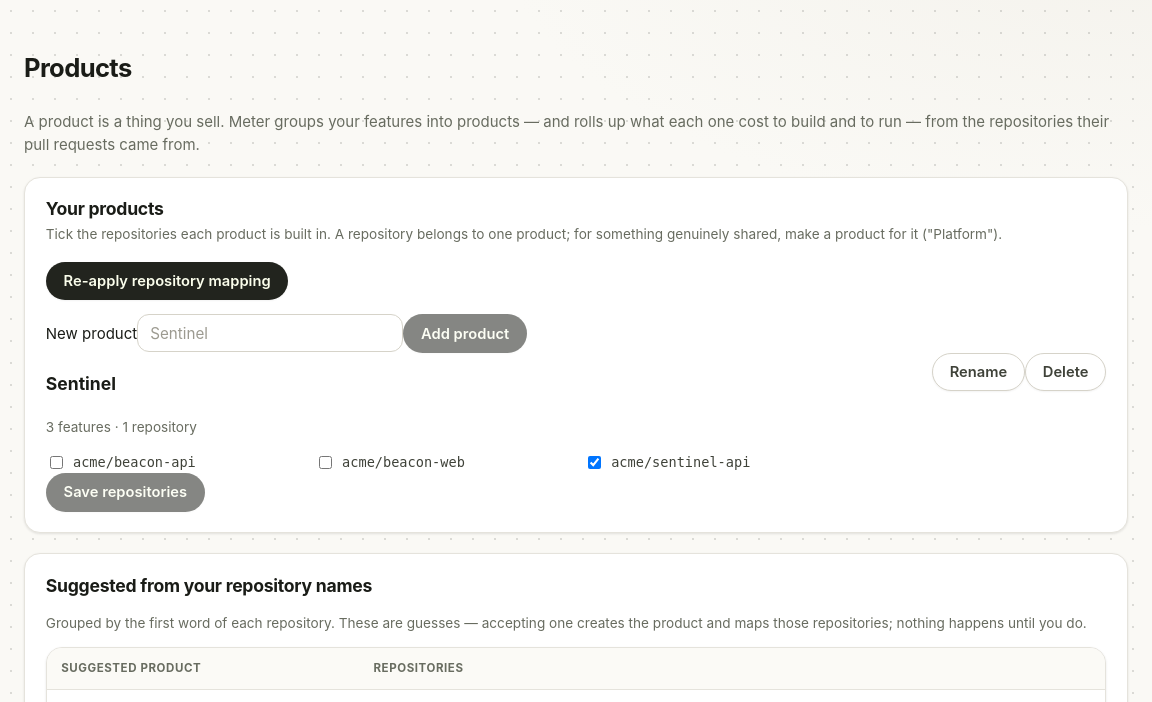
Test case: Products › will not save a rename that changes nothing
This screenshot has width=1152, height=702.
Expected: the heading "Sentinel" is shown, [46, 373, 116, 394]
Click the button "Rename": (978,372) [932, 353, 1025, 391]
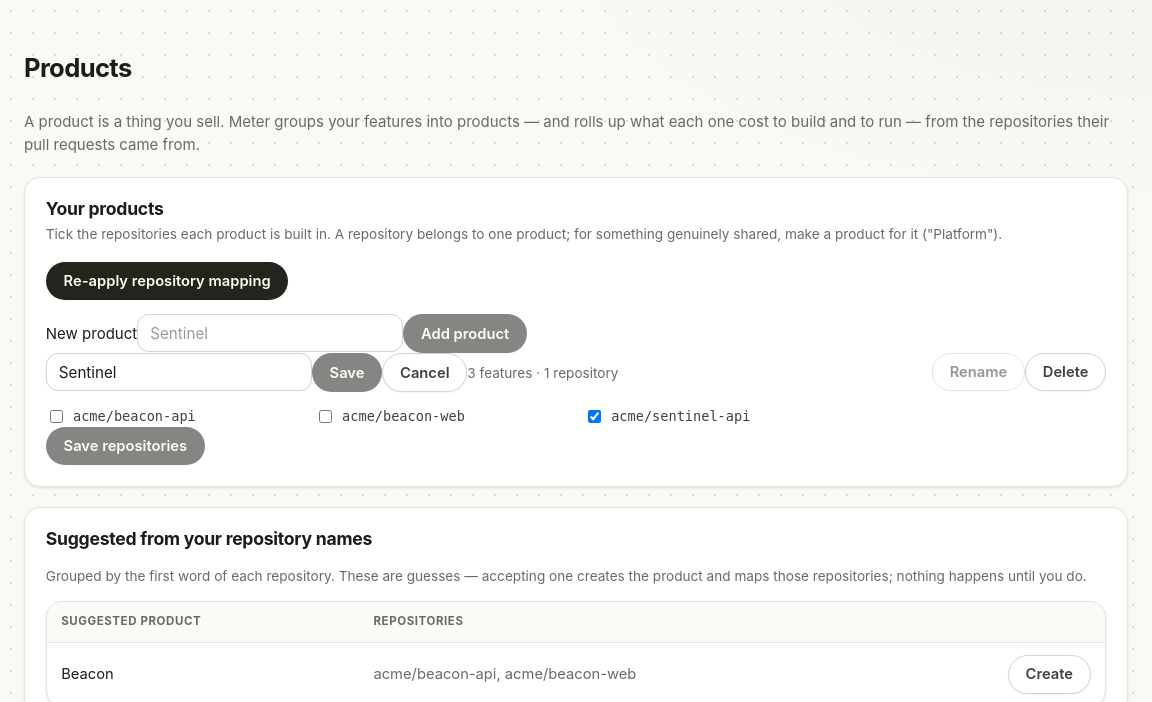
Now the button "Save" is disabled, box [312, 353, 382, 392]
